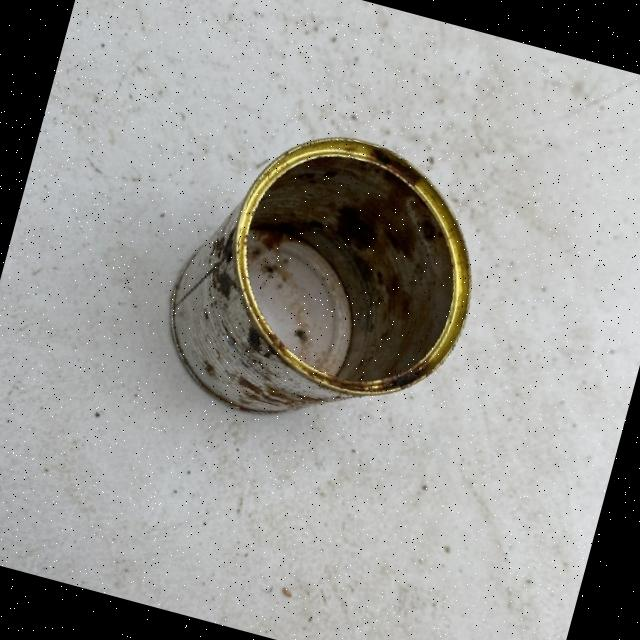metal: (146, 100, 504, 460)
